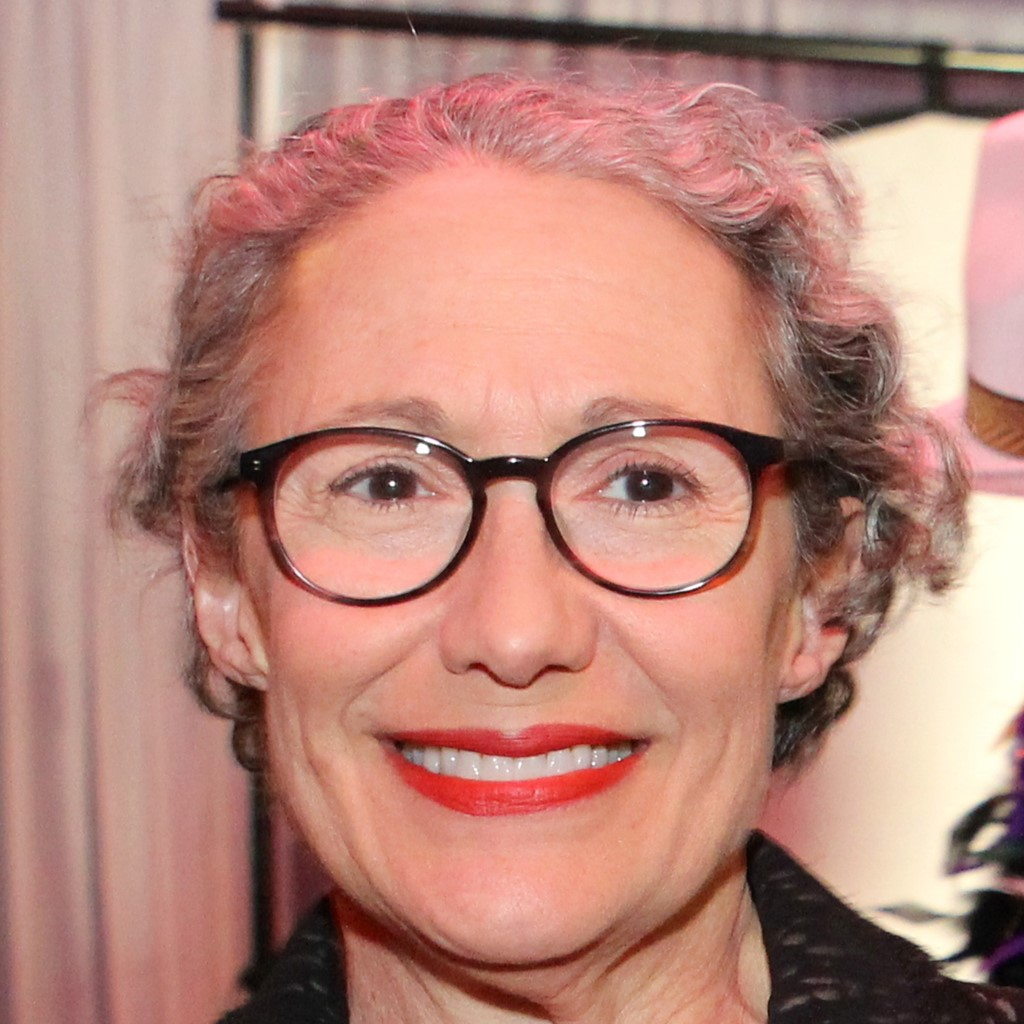sin_mascara: (205, 135, 851, 982)
